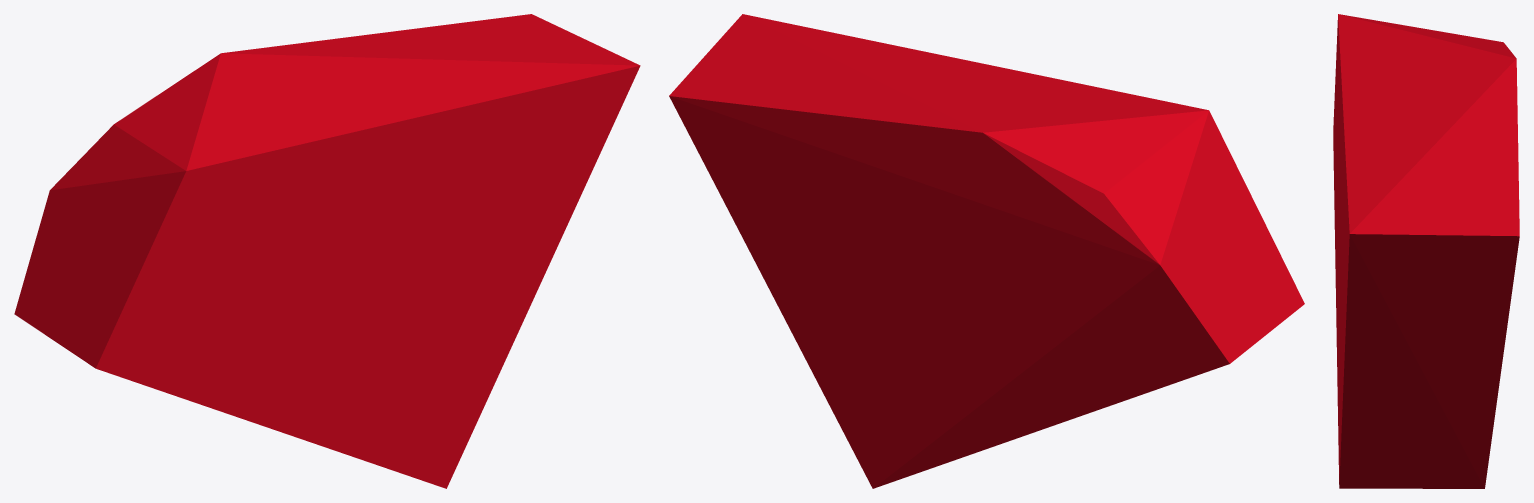
File: camera_convex_piece_002.obj
3 renders of one model, left to right at view 1: azimuth 30°, elevation 25°; view 2: azimuth 150°, elevation 25°; view 3: azimuth 270°, elevation 25°, orthographic. The views are drawn at different scales.
Size of the model in its own units: 0.0181 by 0.0124 by 0.00565.
